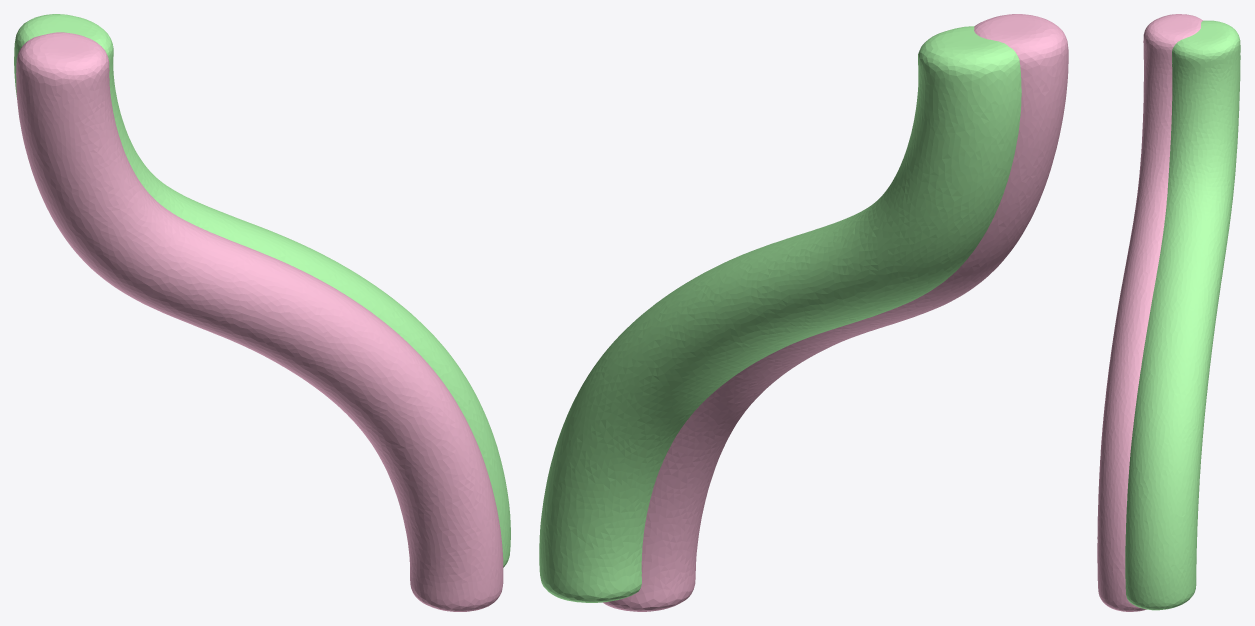
File: GEO_Stock_06_LOD1.glb
The picture shows the model from 3 angles, left to right: view 1: azimuth 30°, elevation 25°; view 2: azimuth 150°, elevation 25°; view 3: azimuth 270°, elevation 25°; orthographic projection. The views are drawn at different scales.
Parts seen in each view (by area): view 1: Tube, Tube 1; view 2: Tube 1, Tube; view 3: Tube 1, Tube.
Part boxes in pixels (box(x1,y1,x2,y2)): Tube: box(16, 32, 503, 611); Tube 1: box(14, 14, 510, 567); Tube 1: box(539, 26, 1021, 602); Tube: box(603, 14, 1068, 611); Tube 1: box(1125, 20, 1240, 610); Tube: box(1097, 14, 1202, 611).
Bounding box in the file's own units: 0.7041 × 0.8914 × 0.2561.
